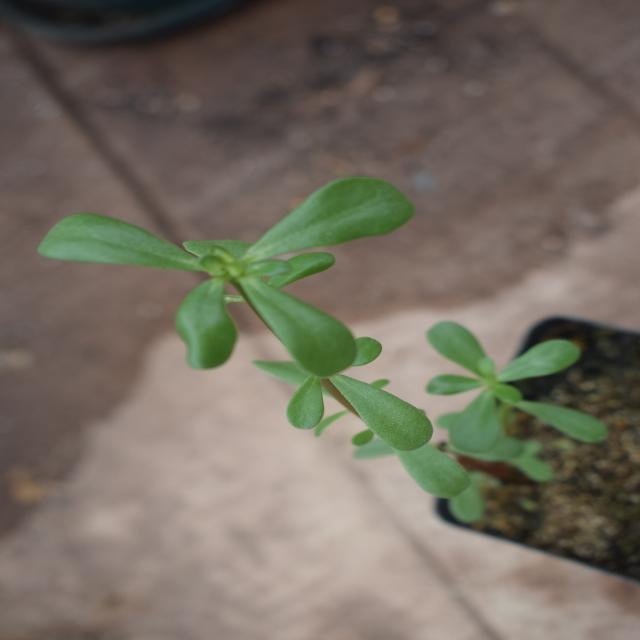purslane: (140, 37, 469, 559)
